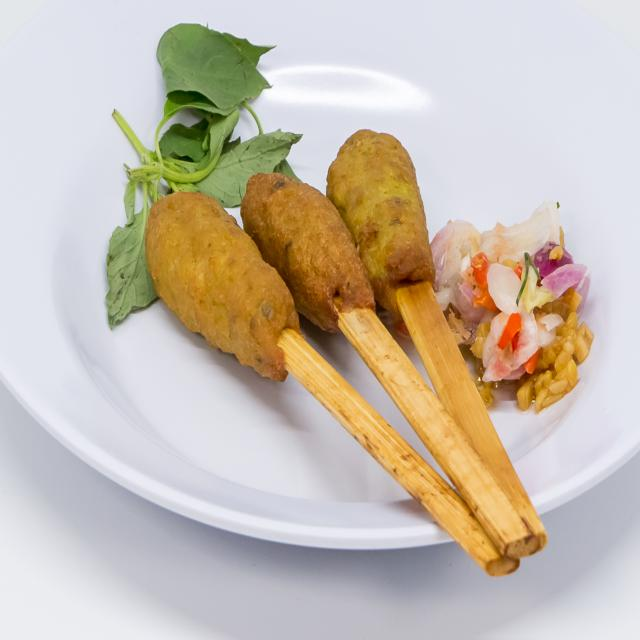Sate-Lilit: (117, 56, 598, 487)
